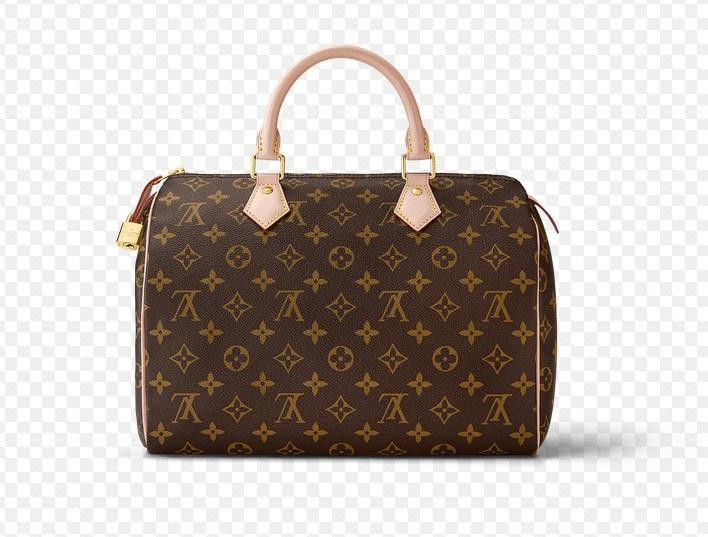LOUIS-VUITTON: (137, 176, 551, 448)
